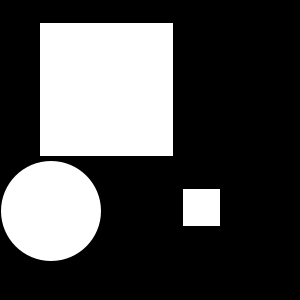circle: (40, 23, 173, 156), (183, 189, 220, 226)
rectangle: (1, 161, 101, 261), (78, 33, 102, 57)
